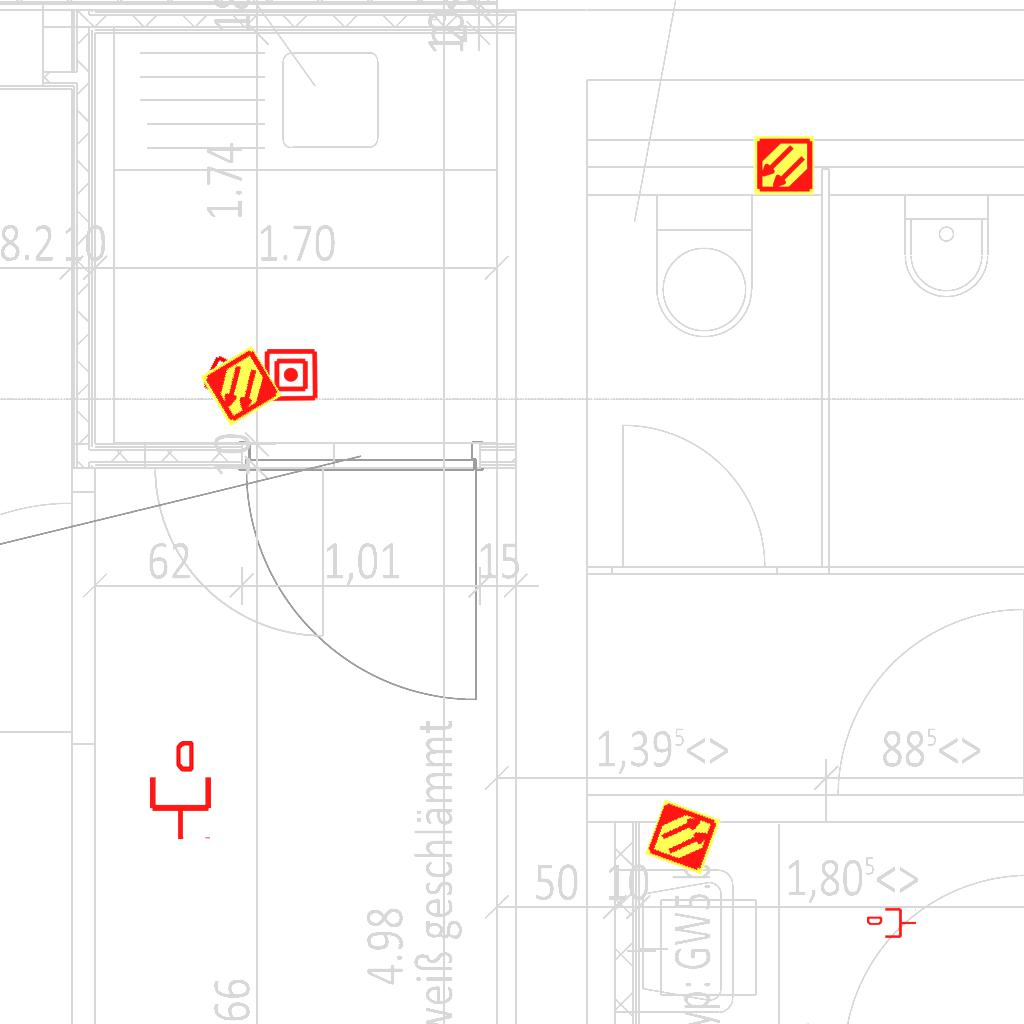ASR_Ansaugrauchmelder: (198, 343, 284, 429), (643, 797, 723, 877), (753, 134, 815, 196)
Datenanschluss_einfach: (146, 741, 215, 841), (867, 906, 917, 940)
NAM-Nichtautomatischer_Melder: (263, 347, 319, 403)
OT_Multisensormelder_(Kombination_RMO_WMD): (189, 341, 265, 417)
